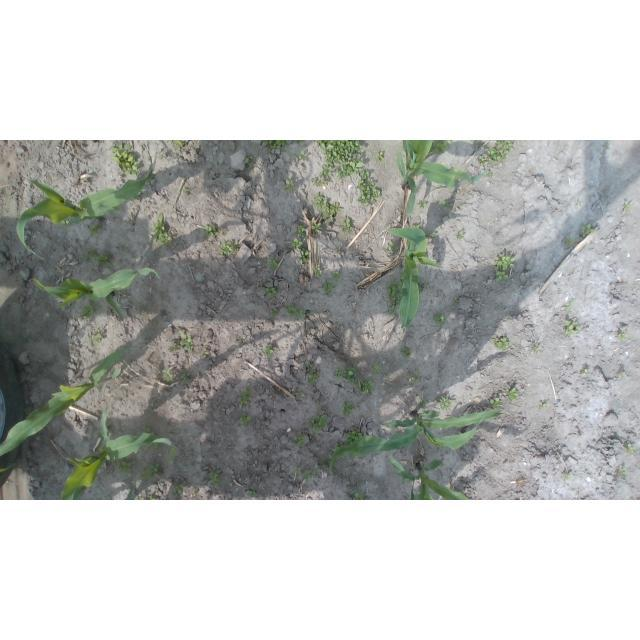Maize: (0, 348, 132, 473), (15, 154, 153, 261), (328, 410, 501, 476), (59, 406, 175, 500), (30, 266, 162, 317), (398, 141, 479, 220), (389, 225, 443, 337), (386, 454, 472, 500), (121, 481, 137, 500)
Weeds: (316, 141, 365, 182), (108, 144, 138, 177), (356, 170, 381, 207), (313, 193, 343, 222), (151, 212, 174, 245), (493, 254, 516, 283), (487, 140, 514, 164), (385, 281, 403, 315), (139, 462, 163, 482), (334, 365, 358, 383), (78, 304, 100, 323), (309, 414, 328, 435), (286, 304, 311, 318), (262, 140, 290, 152), (179, 330, 193, 354), (436, 396, 457, 412), (306, 362, 320, 386), (352, 379, 372, 395), (429, 140, 451, 154), (115, 459, 133, 476), (344, 429, 362, 446), (564, 319, 581, 335), (491, 337, 509, 352), (219, 241, 238, 255), (95, 251, 111, 267), (341, 400, 357, 416), (89, 224, 108, 237), (238, 387, 251, 406), (345, 488, 365, 500), (384, 242, 398, 259), (408, 368, 420, 387), (90, 330, 104, 346), (292, 432, 306, 448), (339, 216, 353, 232), (417, 280, 430, 296), (237, 413, 251, 427), (302, 468, 316, 482), (323, 279, 337, 293), (204, 223, 218, 237), (434, 312, 447, 327), (284, 176, 295, 193), (83, 248, 97, 261), (265, 283, 277, 298), (299, 248, 309, 265), (161, 370, 174, 383), (505, 388, 518, 401), (267, 258, 280, 271), (582, 225, 595, 238), (59, 216, 71, 229), (139, 425, 154, 435), (172, 482, 184, 494), (490, 397, 502, 409), (618, 329, 630, 341), (243, 156, 254, 169), (263, 345, 274, 358), (312, 220, 322, 234), (290, 238, 302, 249), (131, 191, 142, 203), (565, 299, 576, 311), (400, 348, 412, 359), (209, 472, 219, 485), (310, 178, 326, 186), (313, 264, 322, 278), (297, 224, 306, 237), (172, 140, 186, 148), (371, 363, 382, 373), (625, 443, 636, 453), (424, 230, 436, 239), (332, 443, 342, 453), (417, 200, 427, 210), (297, 151, 308, 160), (181, 373, 190, 384), (531, 343, 540, 354), (418, 397, 426, 409), (200, 348, 209, 358), (400, 476, 410, 485), (441, 200, 451, 209), (478, 155, 486, 166), (566, 236, 574, 247), (563, 473, 572, 482), (169, 342, 179, 350), (332, 271, 340, 281), (293, 467, 302, 475), (538, 401, 547, 409), (270, 309, 278, 318), (377, 152, 384, 162), (412, 222, 422, 229), (624, 201, 631, 211), (296, 388, 303, 398), (150, 444, 158, 452), (456, 231, 464, 239), (250, 491, 259, 498), (97, 430, 104, 439), (621, 469, 628, 478), (182, 186, 189, 194), (583, 368, 590, 376), (221, 227, 227, 236), (453, 297, 459, 306), (295, 140, 305, 145), (400, 271, 405, 281), (319, 460, 326, 467), (138, 496, 147, 501), (328, 455, 333, 464), (605, 140, 612, 146), (620, 371, 626, 378), (120, 245, 126, 252), (148, 496, 157, 500), (487, 171, 493, 177), (336, 247, 341, 253), (278, 469, 283, 475), (7, 192, 12, 197)
